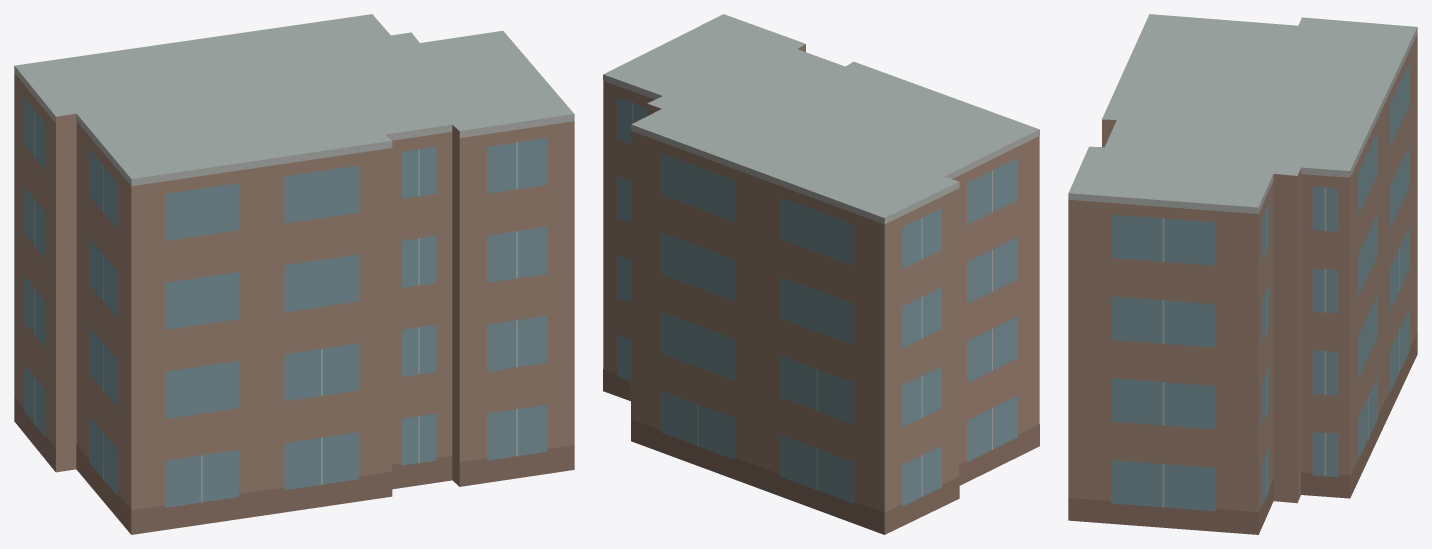
File: survey-upis-32626768.glb
The picture shows the model from 3 angles, left to right: view 1: azimuth 30°, elevation 25°; view 2: azimuth 150°, elevation 25°; view 3: azimuth 270°, elevation 25°; orthographic projection. The views are drawn at different scales.
Parts seen in each view (by area): view 1: survey-upis-32626768.tmp; view 2: survey-upis-32626768.tmp; view 3: survey-upis-32626768.tmp.
Boxes of the visible parts, left/top/right/bottom form: survey-upis-32626768.tmp: left=14, top=14, right=574, bottom=534; survey-upis-32626768.tmp: left=603, top=14, right=1039, bottom=534; survey-upis-32626768.tmp: left=1068, top=14, right=1417, bottom=534.
Bounding box in the file's own units: 15.48 × 12.2 × 11.8.
